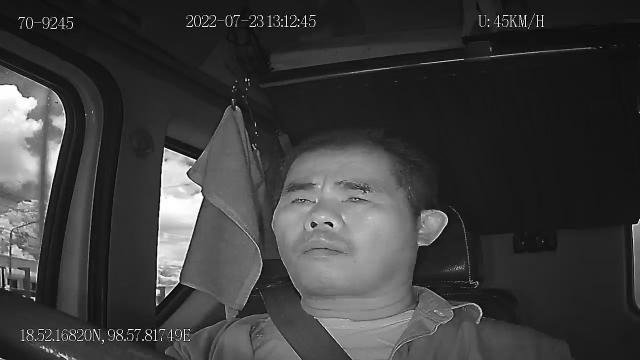SafeDriving: (334, 184, 378, 212), (282, 187, 321, 211)
Seatbelt: (256, 284, 354, 360)
